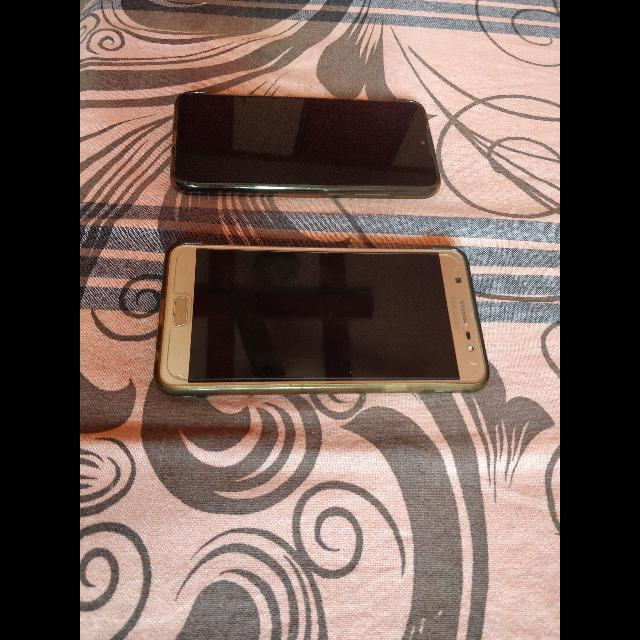Smartphone: (138, 224, 507, 426), (158, 78, 454, 222)
